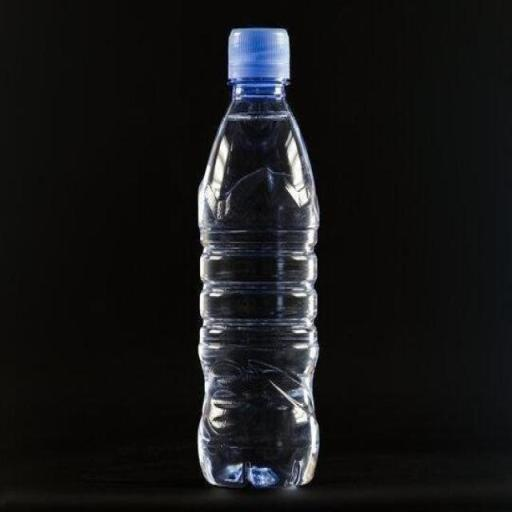plastic: (193, 20, 324, 495)
